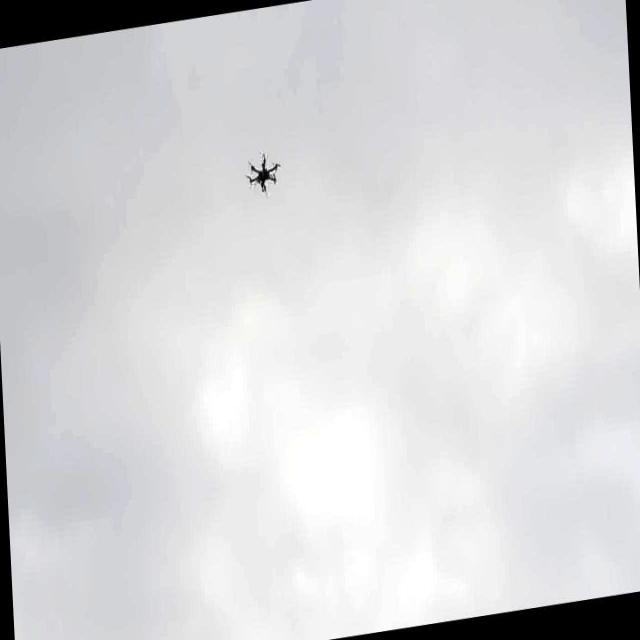drone: (241, 144, 281, 202)
